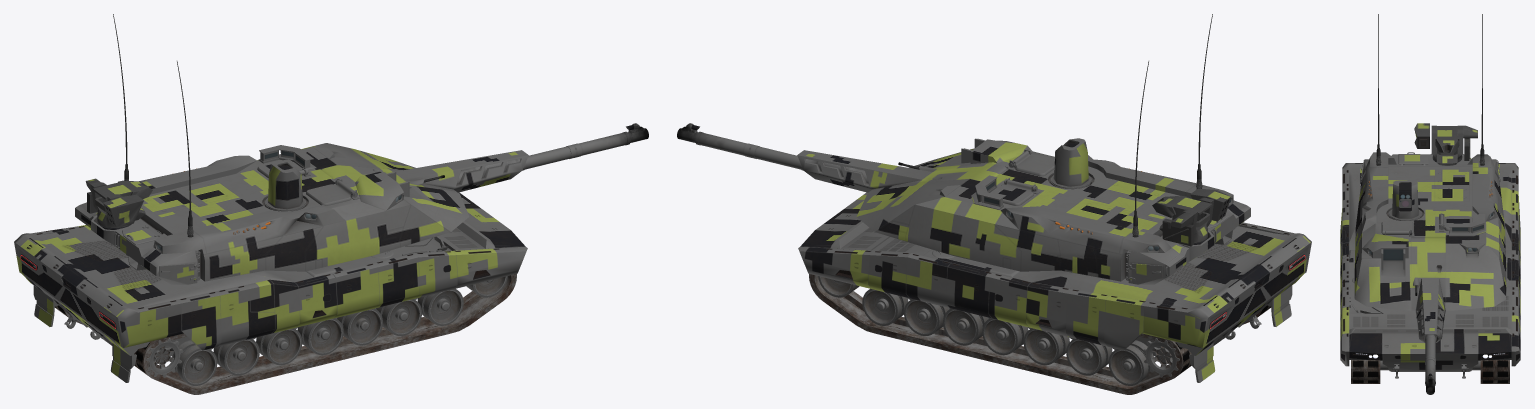
The model's file is kf51_panther (1).glb.
3 renders of one model, left to right at view 1: azimuth 30°, elevation 25°; view 2: azimuth 150°, elevation 25°; view 3: azimuth 270°, elevation 25°, orthographic. The views are drawn at different scales.
Visible parts, largest first — view 1: KF51_Body_06_low, KF51_Body_07_low, KF51_Parts_09_low, KF51_Body_02_low, KF51_Parts_08_low, KF51_Wheels_03_low, KF51_Treads_01_low, KF51_Body_01_low, KF51_Body_12_low, KF51_Wheels_04_low, KF51_Body_11_low, KF51_Wheels_02_low (+4 smaller); view 2: KF51_Body_06_low, KF51_Body_07_low, KF51_Parts_09_low, KF51_Body_02_low, KF51_Parts_08_low, KF51_Wheels_03_low, KF51_Body_01_low, KF51_Treads_01_low, KF51_Body_12_low, KF51_Wheels_04_low, KF51_Body_11_low, KF51_Wheels_02_low (+3 smaller); view 3: KF51_Body_06_low, KF51_Body_07_low, KF51_Body_02_low, KF51_Body_12_low, KF51_Body_01_low, KF51_Parts_09_low, KF51_Body_11_low, KF51_Parts_08_low, KF51_Treads_01_low, KF51_Parts_18_low, KF51_Parts_03_low, KF51_Parts_04_low (+1 smaller).
Boxes of the visible parts, bbox=[...] form: KF51_Body_06_low: bbox=[80, 143, 469, 284]; KF51_Body_07_low: bbox=[16, 192, 525, 356]; KF51_Parts_09_low: bbox=[14, 227, 527, 347]; KF51_Body_02_low: bbox=[85, 147, 403, 254]; KF51_Parts_08_low: bbox=[75, 225, 457, 350]; KF51_Wheels_03_low: bbox=[146, 276, 506, 384]; KF51_Treads_01_low: bbox=[54, 274, 516, 394]; KF51_Body_01_low: bbox=[33, 159, 432, 382]; KF51_Body_12_low: bbox=[91, 150, 528, 227]; KF51_Wheels_04_low: bbox=[172, 276, 507, 385]; KF51_Body_11_low: bbox=[93, 128, 648, 199]; KF51_Wheels_02_low: bbox=[153, 279, 492, 371]; KF51_Body_06_low: bbox=[856, 148, 1250, 284]; KF51_Body_07_low: bbox=[800, 192, 1309, 356]; KF51_Parts_09_low: bbox=[798, 224, 1311, 347]; KF51_Body_02_low: bbox=[940, 138, 1233, 254]; KF51_Parts_08_low: bbox=[868, 222, 1251, 350]; KF51_Wheels_03_low: bbox=[819, 276, 1179, 384]; KF51_Body_01_low: bbox=[872, 151, 1292, 382]; KF51_Treads_01_low: bbox=[809, 274, 1271, 394]; KF51_Body_12_low: bbox=[797, 150, 1213, 242]; KF51_Wheels_04_low: bbox=[818, 276, 1153, 385]; KF51_Body_11_low: bbox=[677, 128, 1212, 220]; KF51_Wheels_02_low: bbox=[833, 279, 1172, 371]; KF51_Body_06_low: bbox=[1354, 154, 1506, 310]; KF51_Body_07_low: bbox=[1349, 163, 1511, 371]; KF51_Body_02_low: bbox=[1362, 123, 1498, 258]; KF51_Body_12_low: bbox=[1411, 125, 1463, 342]; KF51_Body_01_low: bbox=[1349, 154, 1511, 313]; KF51_Parts_09_low: bbox=[1340, 163, 1520, 366]; KF51_Body_11_low: bbox=[1398, 126, 1459, 394]; KF51_Parts_08_low: bbox=[1340, 187, 1520, 324]; KF51_Treads_01_low: bbox=[1351, 360, 1509, 383]; KF51_Parts_18_low: bbox=[1355, 14, 1505, 370]; KF51_Parts_03_low: bbox=[1349, 214, 1485, 313]; KF51_Parts_04_low: bbox=[1352, 140, 1508, 359].
Size of the model in its own units: 8.74 by 4.65 by 2.9.
Materials: 4 (4 with a texture image).
